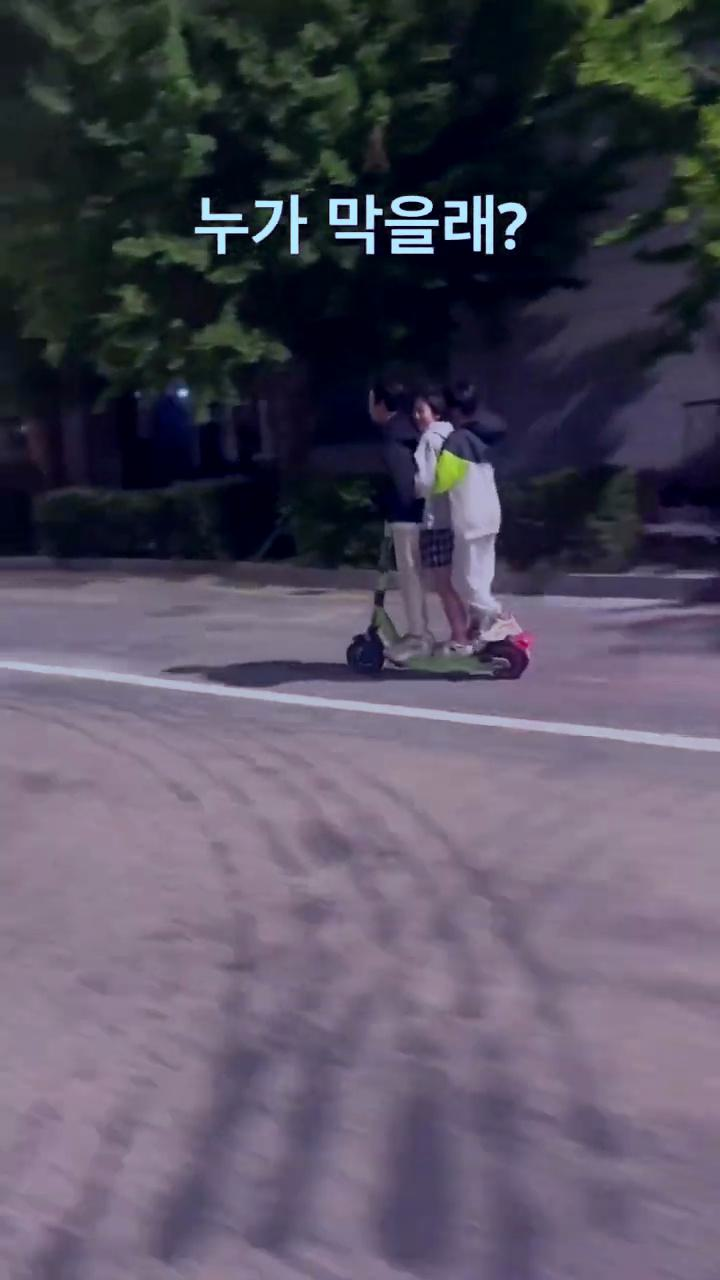multiple: (330, 369, 545, 687)
